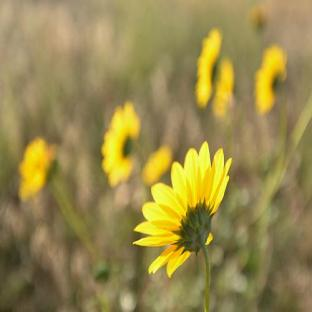sunflower: (132, 141, 232, 312)
